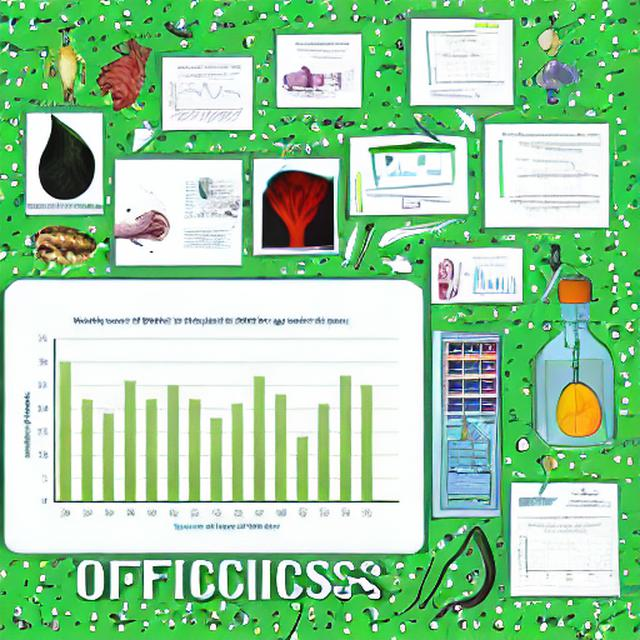Graph: (14, 309, 408, 543), (512, 521, 617, 584), (166, 73, 244, 128), (464, 263, 519, 293)
